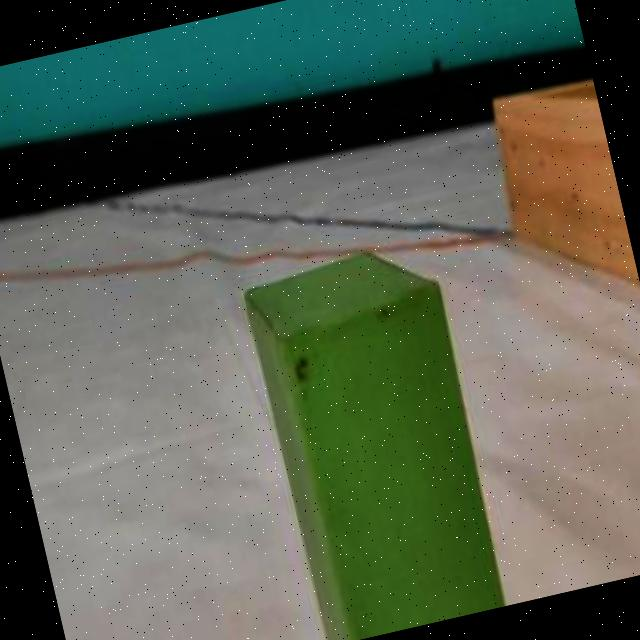greenbox: (229, 229, 516, 640)
